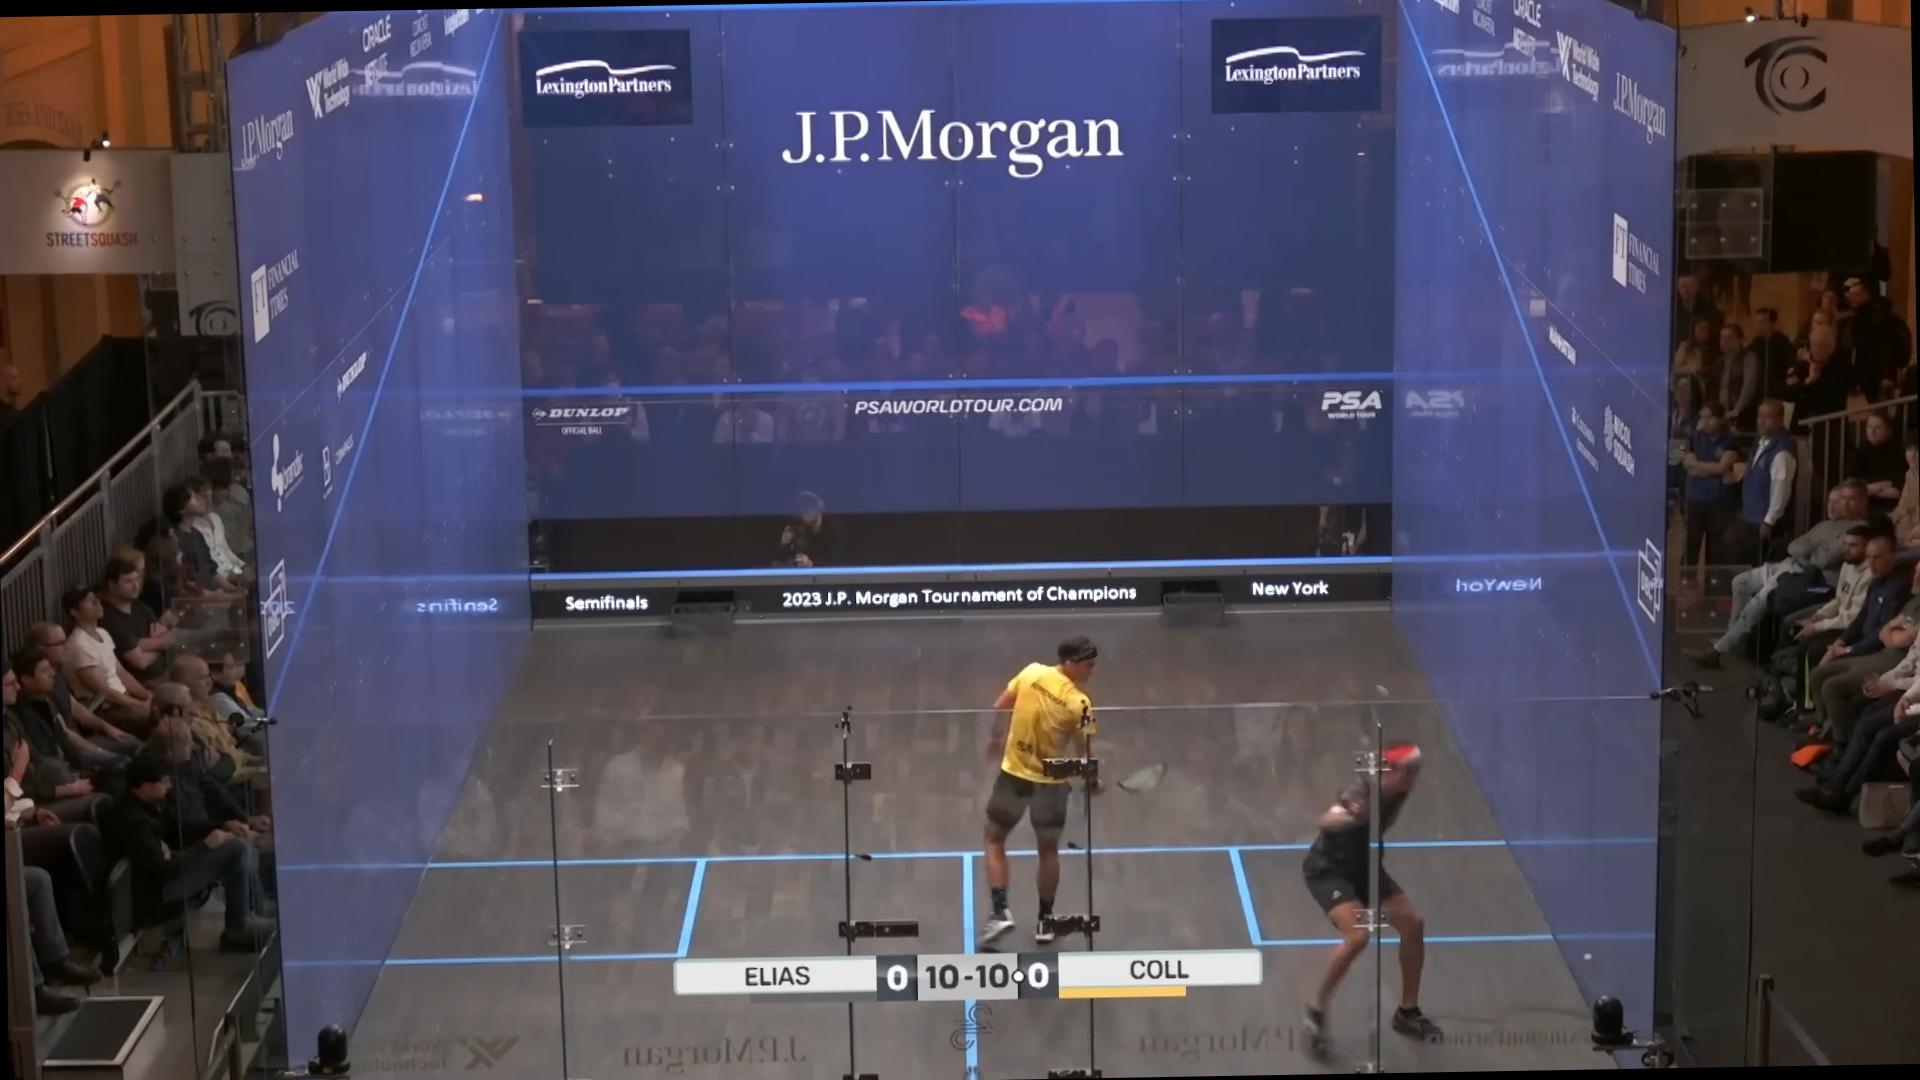Racket: (1093, 762, 1187, 811)
